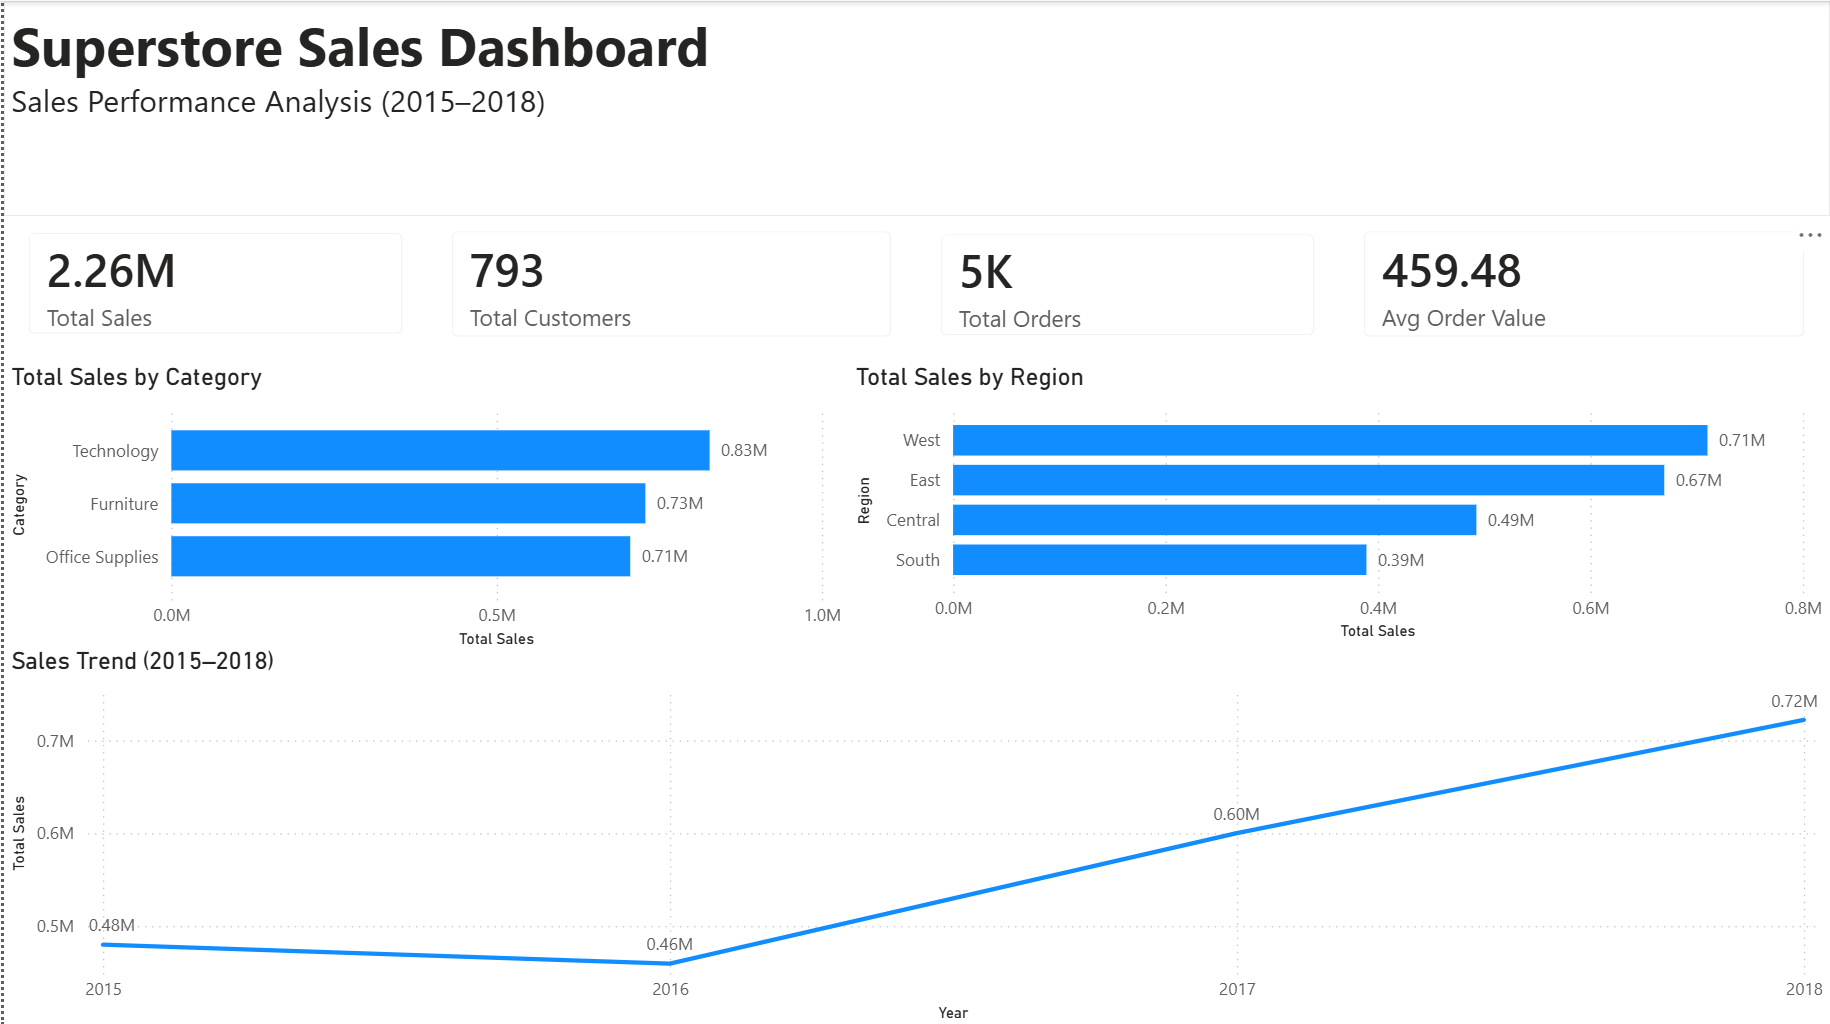

This screenshot's page, from the dashboard's own definition file:
{"tool":"powerbi","page":{"name":"Executive Overview","canvas":[1280,720],"ordinal":0},"visuals":[{"type":"cardVisual","fields":{"Data":["train.Total Sales"]},"box":[0,145.1,296.6,105.2],"z":0},{"type":"cardVisual","fields":{"Data":["train.Total Orders"]},"box":[639.4,146.2,296.6,105.2],"z":1000},{"type":"cardVisual","fields":{"Data":["train.Total Customers"]},"box":[296.6,144.1,342.8,108.3],"z":2000},{"type":"cardVisual","fields":{"Data":["train.Avg Order Value"]},"box":[935.9,144.1,343.9,108.3],"z":3000},{"type":"clusteredBarChart","fields":{"Category":["train.Category"],"Y":["train.Total Sales"]},"box":[0,253.4,592.1,204],"z":4000},{"type":"clusteredBarChart","fields":{"Category":["train.Region"],"Y":["train.Total Sales"]},"box":[592.1,253.4,687.8,198.8],"z":5000},{"type":"lineChart","title":"Sales Trend (2015–2018)","fields":{"Category":["train.Year"],"Y":["train.Total Sales"]},"box":[0,452.5,1279.5,267.5],"z":6000},{"type":"textbox","box":[0,0,1279.8,150.4],"z":6001}]}

Visuals, with their boxes in screenshot pixels (x1, y1, x2, y2), scaled from the page's 1280x720 canvas onto the 1830x1024 screenshot:
cardVisual - train.Total Sales: [x1=0, y1=206, x2=424, y2=356]
cardVisual - train.Total Orders: [x1=914, y1=208, x2=1338, y2=358]
cardVisual - train.Total Customers: [x1=424, y1=205, x2=914, y2=359]
cardVisual - train.Avg Order Value: [x1=1338, y1=205, x2=1829, y2=359]
clusteredBarChart - train.Category x train.Total Sales: [x1=0, y1=360, x2=847, y2=651]
clusteredBarChart - train.Region x train.Total Sales: [x1=847, y1=360, x2=1829, y2=643]
"Sales Trend (2015–2018)" lineChart: [x1=0, y1=644, x2=1829, y2=1023]
textbox: [x1=0, y1=0, x2=1829, y2=214]
